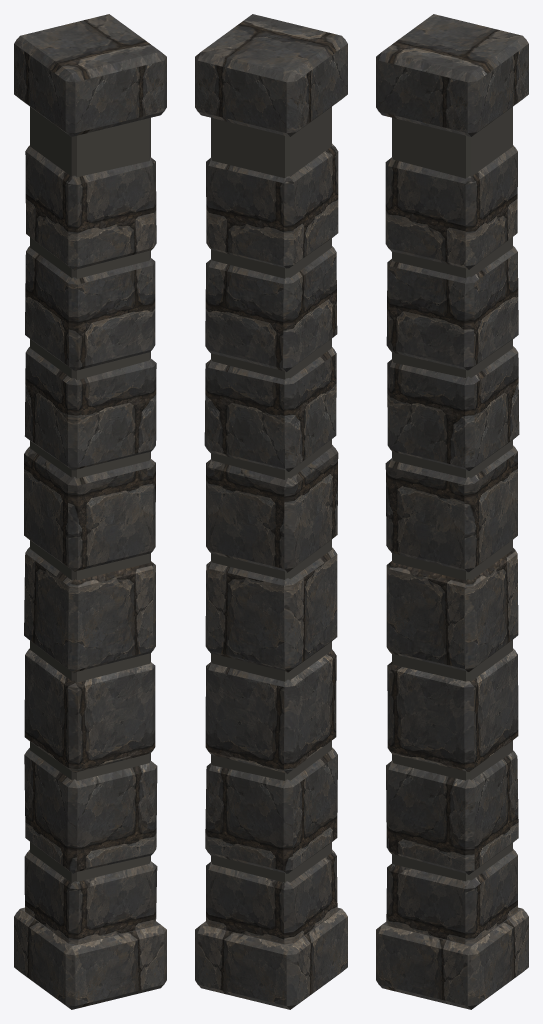
File: post_stone.glb
3 views of the same model, side by side, from view 1: azimuth 30°, elevation 25°; view 2: azimuth 150°, elevation 25°; view 3: azimuth 330°, elevation 25° (orthographic).
Parts seen in each view (by area): view 1: post_stone; view 2: post_stone; view 3: post_stone.
Part boxes in pixels (box(x1,y1,x2,y2)): post_stone: box(14, 14, 166, 1009); post_stone: box(195, 14, 347, 1009); post_stone: box(376, 14, 528, 1009).
Bounding box in the file's own units: 0.3 × 2.65 × 0.3.
Materials: 4 (3 with a texture image).
